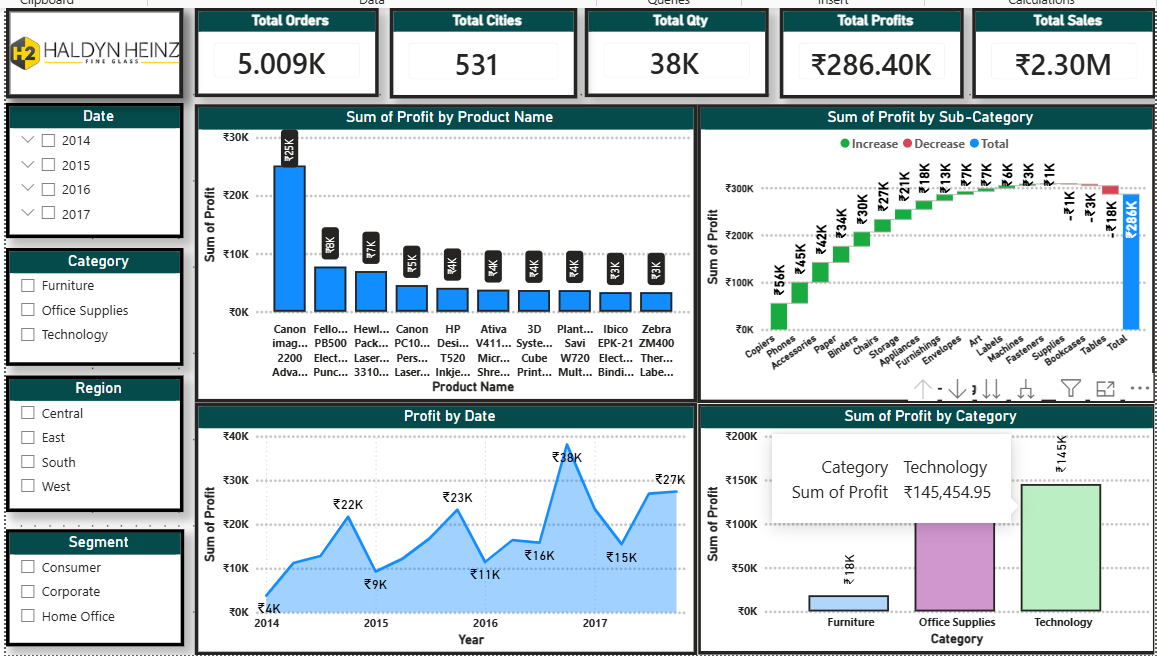

The dashboard page shown, as its layout file describes it:
{"tool":"powerbi","page":{"name":"Profit Analysis","canvas":[1280,720],"ordinal":2},"visuals":[{"type":"image","box":[0,0,195.6,97.2],"z":0},{"type":"cardVisual","title":"Total Profits","fields":{"Data":["Sum(Orders.Profit)"]},"box":[861,0,205,100.7],"z":1000},{"type":"cardVisual","title":"Total Qty","fields":{"Data":["Sum(Orders.Quantity)"]},"box":[644,0.6,205,99.6],"z":2000},{"type":"cardVisual","title":"Total Cities","fields":{"Data":["Count(Orders.City)"]},"box":[427,0,209,100.7],"z":3000},{"type":"cardVisual","title":"Total Orders","fields":{"Data":["Count(Orders.Order ID)"]},"box":[209.9,0.6,205,99.6],"z":4000},{"type":"cardVisual","title":"Total Sales","fields":{"Data":["Sum(Orders.Sales)"]},"box":[1075,0,205,100.7],"z":5000},{"type":"slicer","title":"Date","fields":{"Values":["Orders.Order Date.Variation.Date Hierarchy.Year","Orders.Order Date.Variation.Date Hierarchy.Quarter","Orders.Order Date.Variation.Date Hierarchy.Month","Orders.Order Date.Variation.Date Hierarchy.Day"]},"box":[0,106.4,197.9,150.5],"z":6000},{"type":"slicer","title":"Category","fields":{"Values":["Orders.Category"]},"box":[0,266.9,197.9,131.6],"z":7000},{"type":"slicer","title":"Region","fields":{"Values":["Orders.Region"]},"box":[0,408.4,197.9,151.7],"z":8000},{"type":"slicer","title":"Segment","fields":{"Values":["Orders.Segment"]},"box":[0,580,198,130],"z":9000},{"type":"columnChart","fields":{"Category":["Orders.Product Name"],"Y":["Sum(Orders.Profit)"]},"box":[209.8,106.7,559.4,331.9],"z":10000},{"type":"waterfallChart","fields":{"Category":["Orders.Sub-Category"],"Y":["Sum(Orders.Profit)"]},"box":[769.4,107.1,510.6,332.5],"z":11000},{"type":"areaChart","title":"Profit by Date","fields":{"Category":["Orders.Order Date.Variation.Date Hierarchy.Year","Orders.Order Date.Variation.Date Hierarchy.Quarter","Orders.Order Date.Variation.Date Hierarchy.Month","Orders.Order Date.Variation.Date Hierarchy.Day"],"Y":["Sum(Orders.Profit)"]},"box":[210.1,439.7,559.3,281],"z":12000},{"type":"columnChart","fields":{"Category":["Orders.Category","Orders.Sub-Category","Orders.Product Name"],"Y":["Sum(Orders.Profit)"]},"box":[769,440,511,280],"z":13000},{"type":"image","box":[0,0,197.9,100.7],"z":14000}]}

Visuals, with their boxes on the page's 1280x720 design canvas (x1, y1, x2, y2). These are canvas units, not pixel positions in the 1157x657 screenshot, which may show the page scaled, cropped or inside an application window:
image: x1=0 y1=0 x2=196 y2=97
"Total Profits" cardVisual: x1=861 y1=0 x2=1066 y2=101
"Total Qty" cardVisual: x1=644 y1=1 x2=849 y2=100
"Total Cities" cardVisual: x1=427 y1=0 x2=636 y2=101
"Total Orders" cardVisual: x1=210 y1=1 x2=415 y2=100
"Total Sales" cardVisual: x1=1075 y1=0 x2=1280 y2=101
"Date" slicer: x1=0 y1=106 x2=198 y2=257
"Category" slicer: x1=0 y1=267 x2=198 y2=398
"Region" slicer: x1=0 y1=408 x2=198 y2=560
"Segment" slicer: x1=0 y1=580 x2=198 y2=710
columnChart - Orders.Product Name x Sum(Orders.Profit): x1=210 y1=107 x2=769 y2=439
waterfallChart - Orders.Sub-Category x Sum(Orders.Profit): x1=769 y1=107 x2=1280 y2=440
"Profit by Date" areaChart: x1=210 y1=440 x2=769 y2=721
columnChart - Orders.Category x Orders.Sub-Category: x1=769 y1=440 x2=1280 y2=720
image: x1=0 y1=0 x2=198 y2=101
